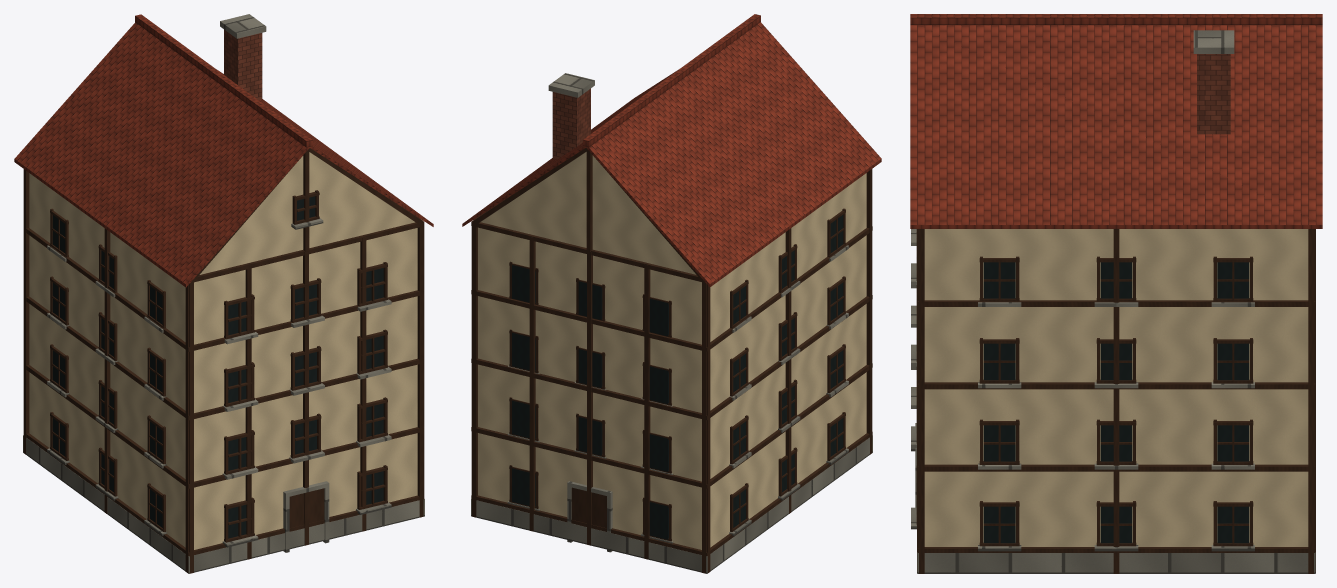
File: SG_House_B_Tall_LOD1.fbx
3 renders of one model, left to right at view 1: azimuth 30°, elevation 25°; view 2: azimuth 150°, elevation 25°; view 3: azimuth 270°, elevation 25°, orthographic. The views are drawn at different scales.
Parts seen in each view (by area): view 1: SG_House_B_Tall_Detail1; view 2: SG_House_B_Tall_Detail1; view 3: SG_House_B_Tall_Detail1.
Boxes of the visible parts, bbox=[...] form: SG_House_B_Tall_Detail1: bbox=[14, 14, 433, 573]; SG_House_B_Tall_Detail1: bbox=[462, 14, 881, 573]; SG_House_B_Tall_Detail1: bbox=[910, 14, 1322, 573].
Size of the model in its own units: 19.4 by 31.35 by 23.3.
